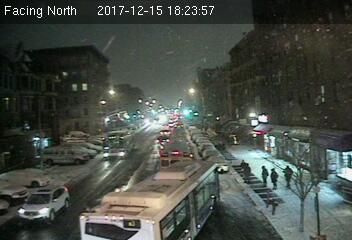bus: (80, 158, 228, 240), (101, 130, 134, 155)
car: (18, 184, 71, 223)
pedestrian: (241, 159, 253, 183), (260, 161, 270, 188), (270, 166, 280, 191), (283, 165, 291, 188)
